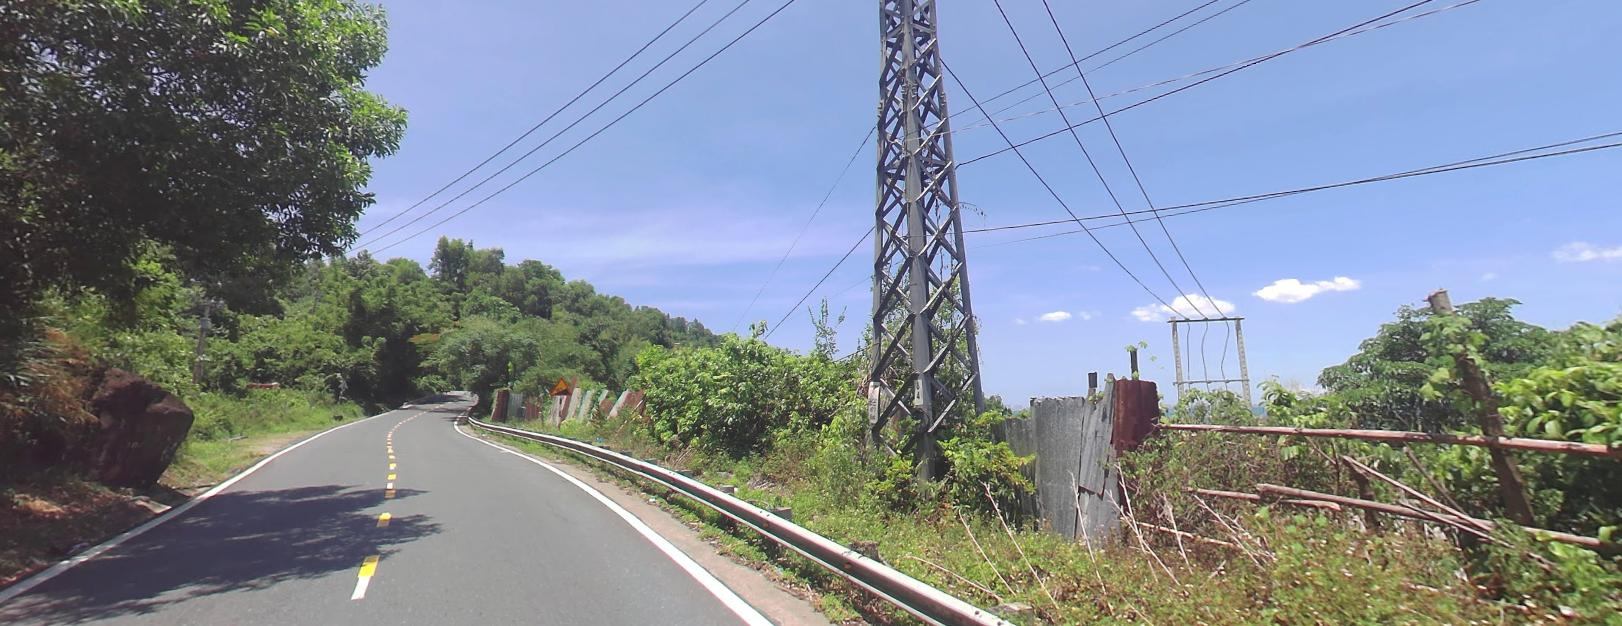Nguy hiem: (550, 377, 573, 398)
